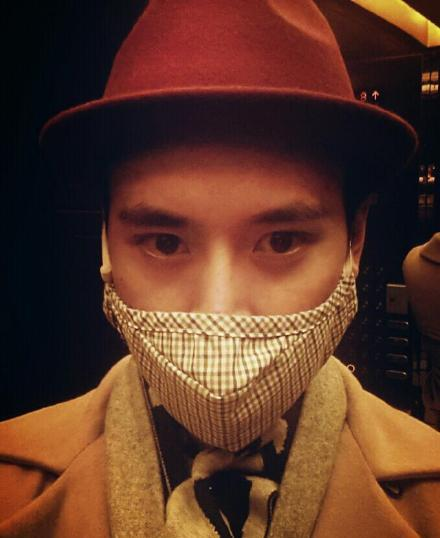WRONG: (104, 200, 353, 449)
